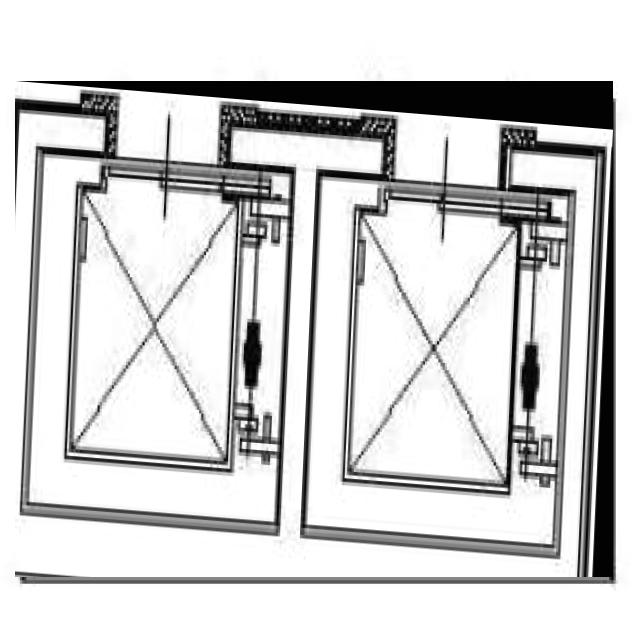lift: (16, 81, 614, 577)
